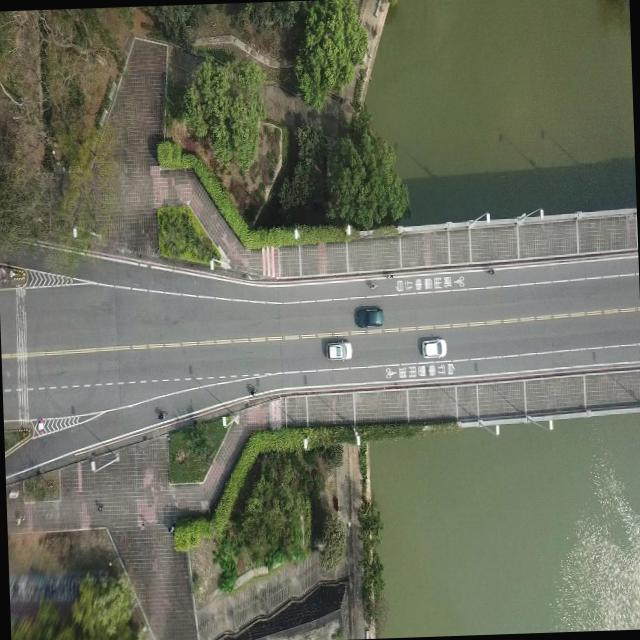car: (353, 304, 384, 329), (324, 338, 352, 361), (420, 336, 446, 358)
